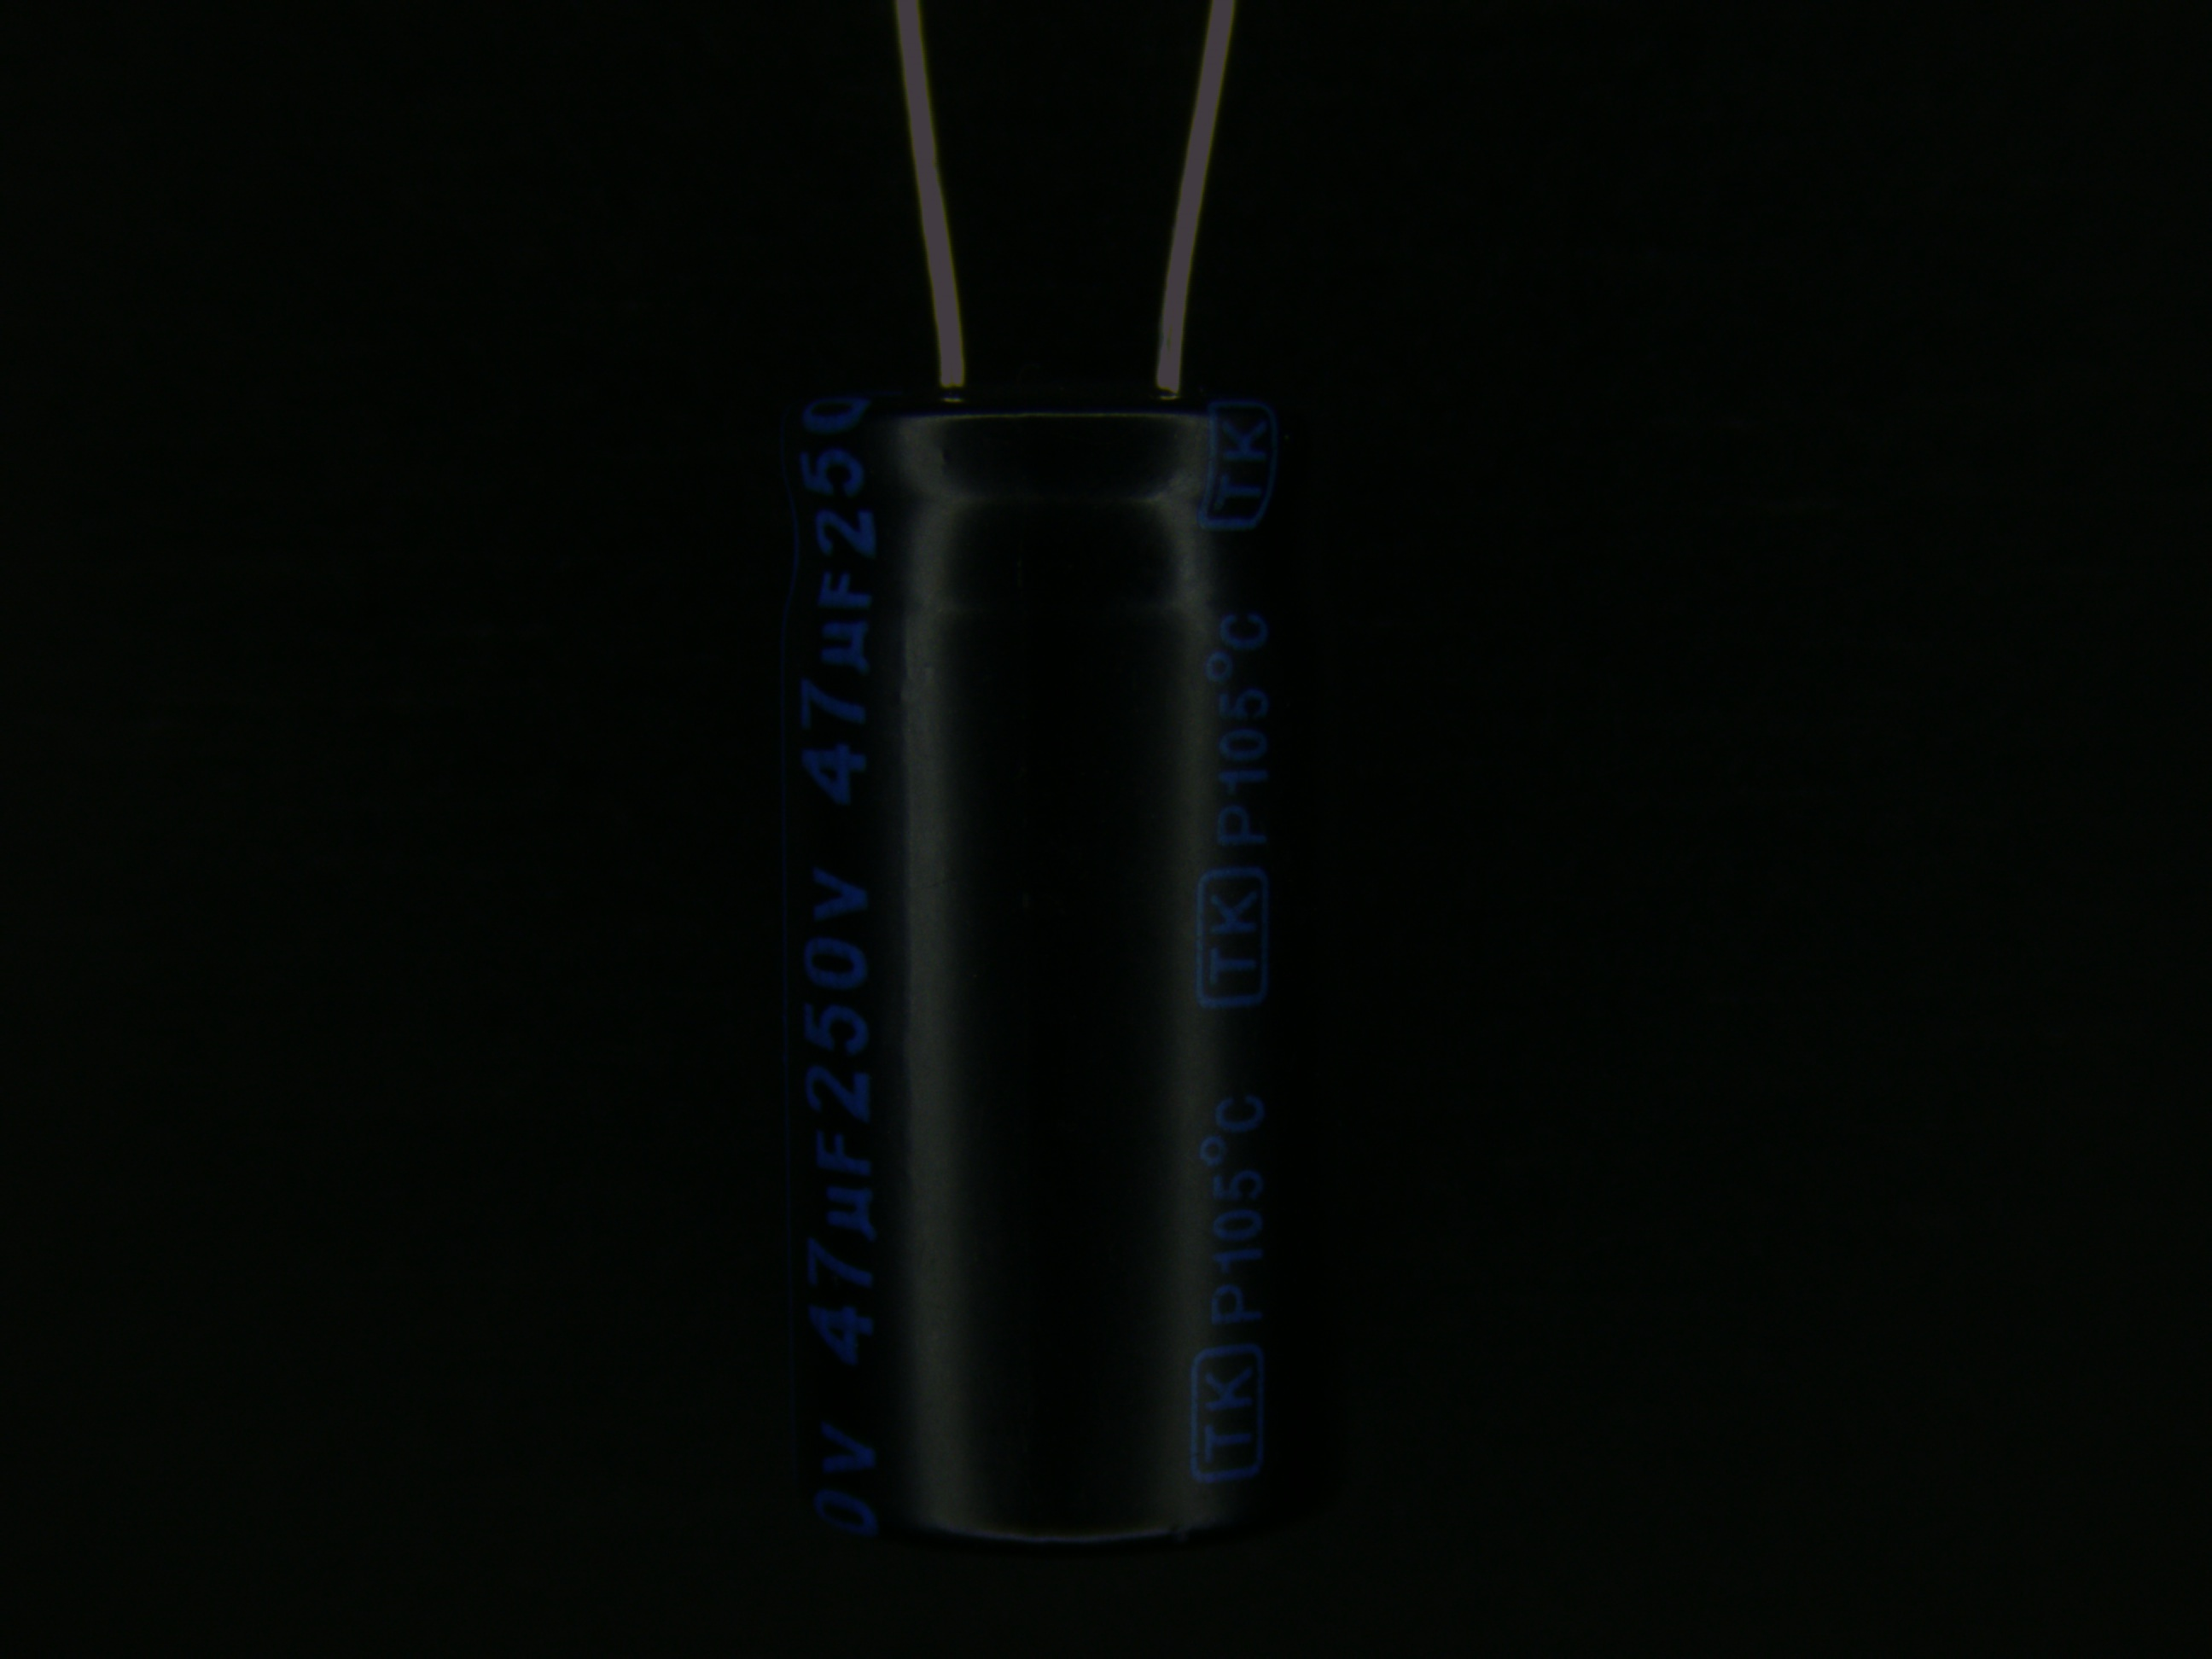c2: (775, 267, 1350, 1547)
